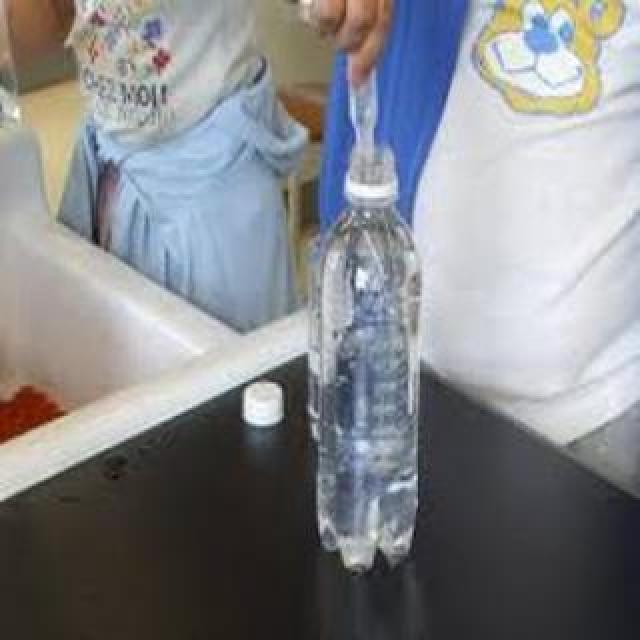Pet_Bottle: (306, 136, 428, 576)
